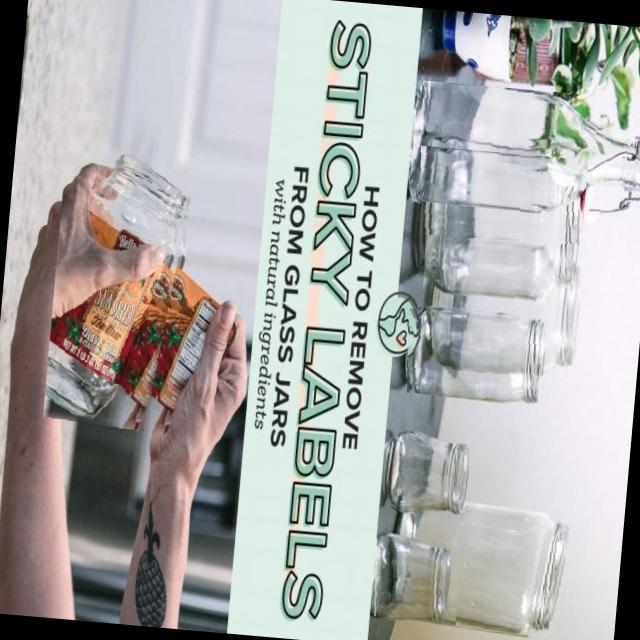Glass: (41, 150, 196, 433), (406, 79, 640, 223), (407, 146, 587, 304), (413, 231, 584, 378), (453, 504, 582, 640), (400, 302, 543, 404), (367, 536, 450, 622), (382, 440, 468, 518)
